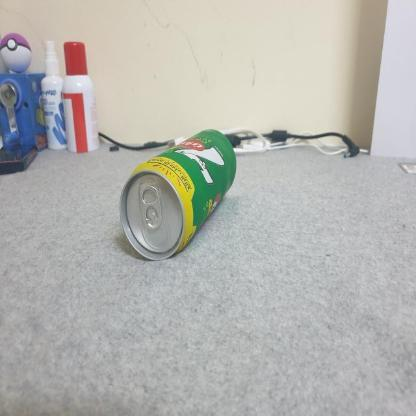Can: (119, 130, 237, 262)
